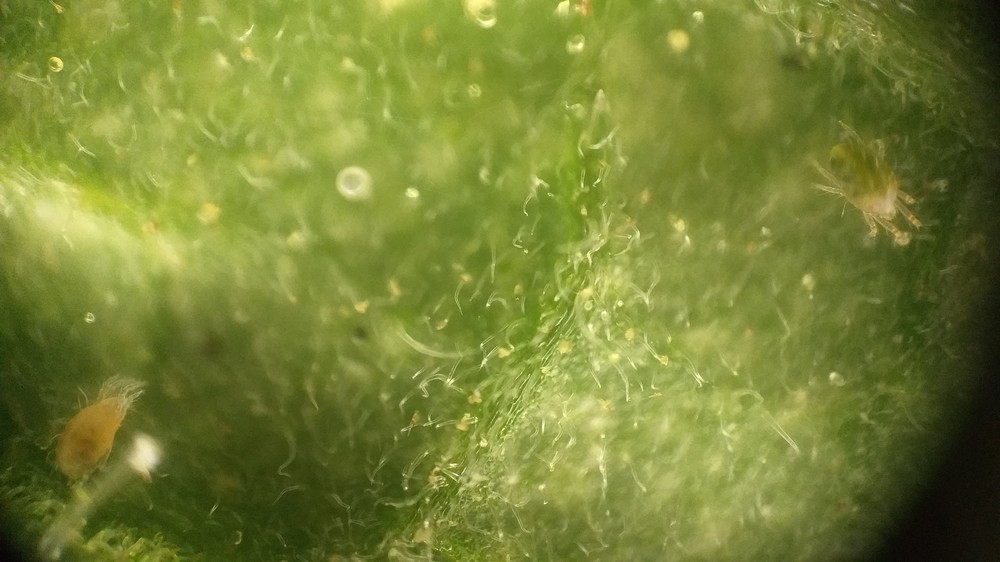Aracnido Rojo: (28, 363, 164, 486)
